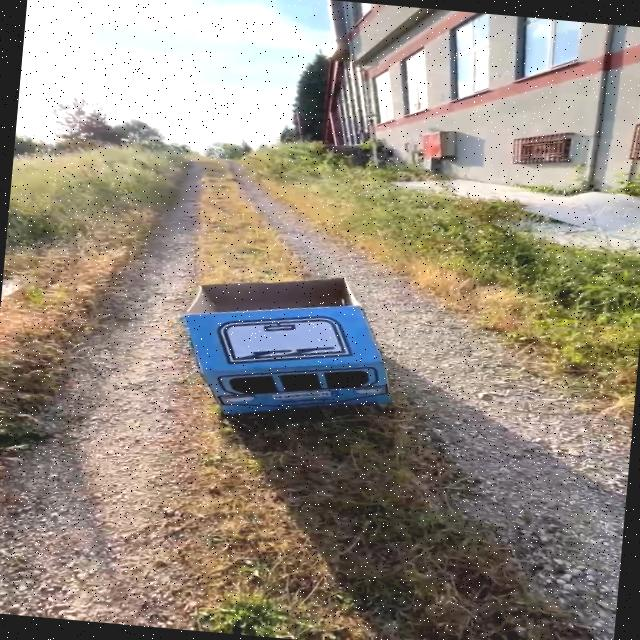blue_car: (138, 251, 452, 463)
